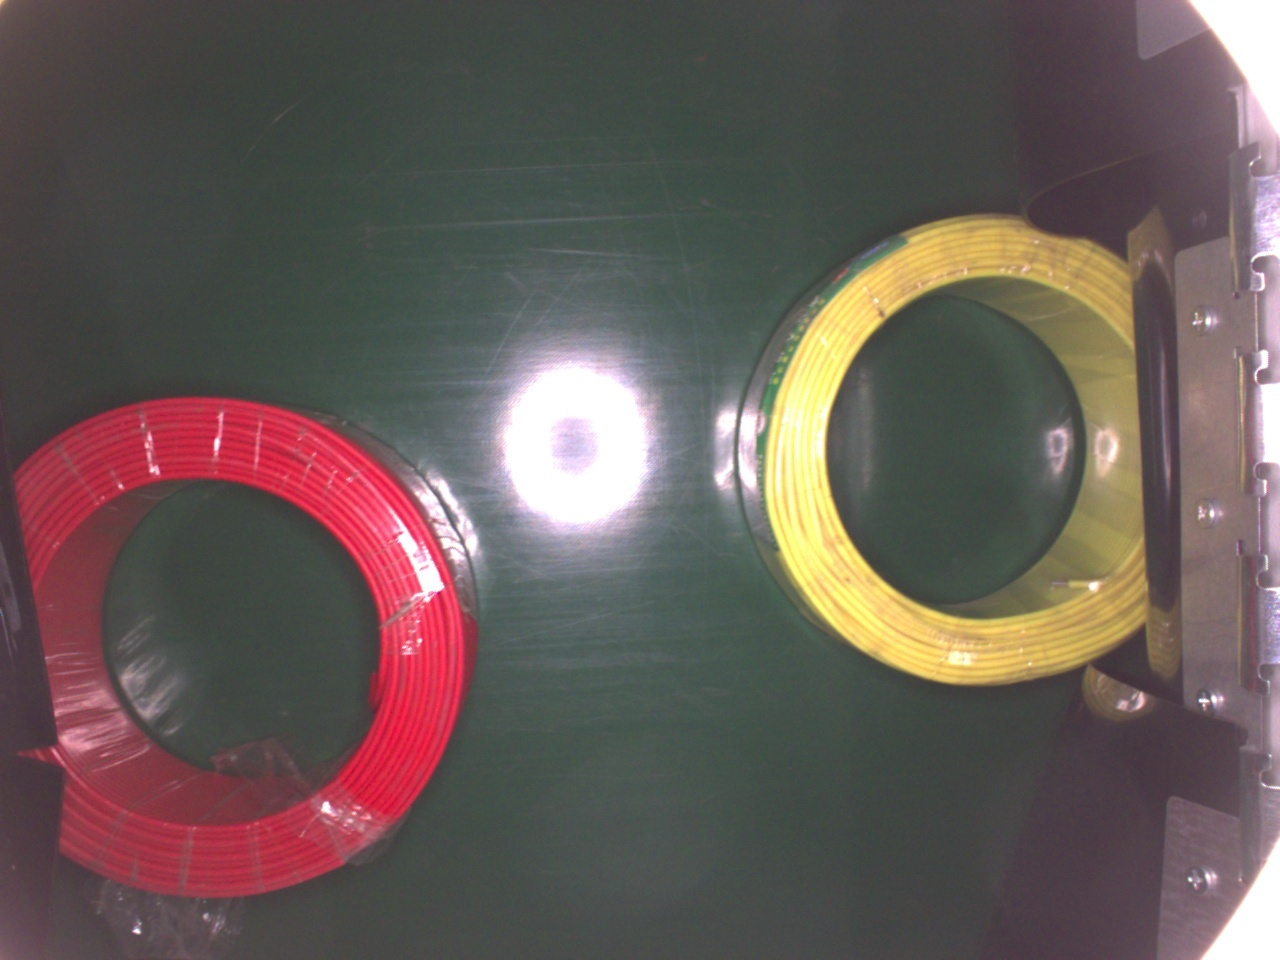red: (15, 392, 481, 905)
yellow: (741, 213, 1149, 683)
